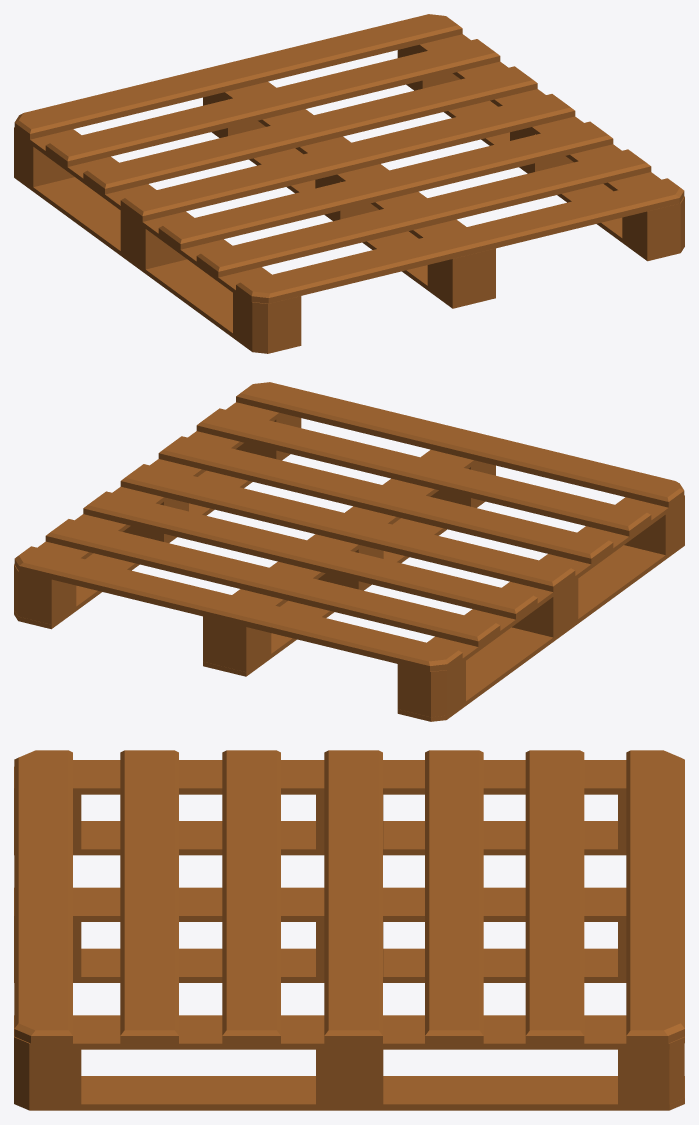
File: Prop_Pallet.fbx
3 renders of one model, top to bottom at view 1: azimuth 30°, elevation 25°; view 2: azimuth 150°, elevation 25°; view 3: azimuth 270°, elevation 25°, orthographic. The views are drawn at different scales.
Parts seen in each view (by area): view 1: Prop_Pallet; view 2: Prop_Pallet; view 3: Prop_Pallet.
Part boxes in pixels (x1=…): Prop_Pallet: x1=14, y1=14, x2=684, y2=353; Prop_Pallet: x1=14, y1=382, x2=684, y2=721; Prop_Pallet: x1=14, y1=750, x2=684, y2=1110.
Size of the model in its own units: 177 by 177 by 22.78.
